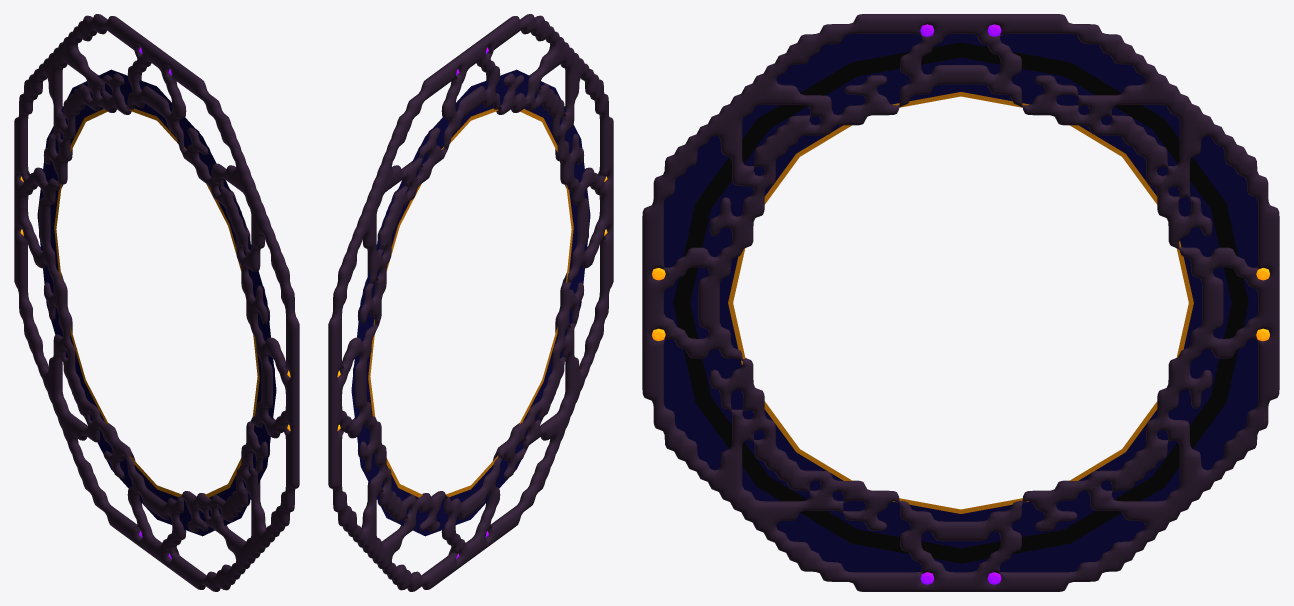
File: portal frame.fbx
3 views of the same model, side by side, from view 1: azimuth 30°, elevation 25°; view 2: azimuth 150°, elevation 25°; view 3: azimuth 270°, elevation 25° (orthographic). The views are drawn at different scales.
Visible parts, largest first — view 1: portal frame; view 2: portal frame; view 3: portal frame.
Boxes of the visible parts, <box> form: portal frame: <box>14,14,299,591</box>; portal frame: <box>328,14,613,591</box>; portal frame: <box>642,14,1279,591</box>.
Bounding box in the file's own units: 4.43 × 252 × 252.
